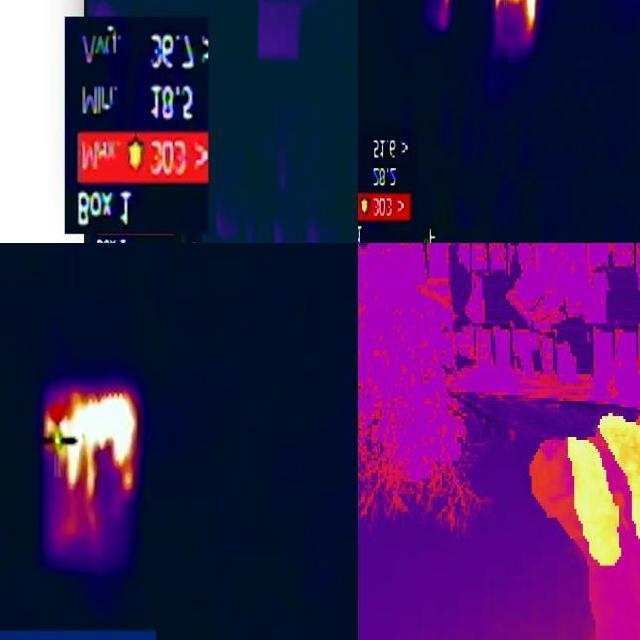fire: (42, 386, 136, 512), (569, 415, 640, 571), (493, 1, 540, 38), (432, 1, 456, 33)
